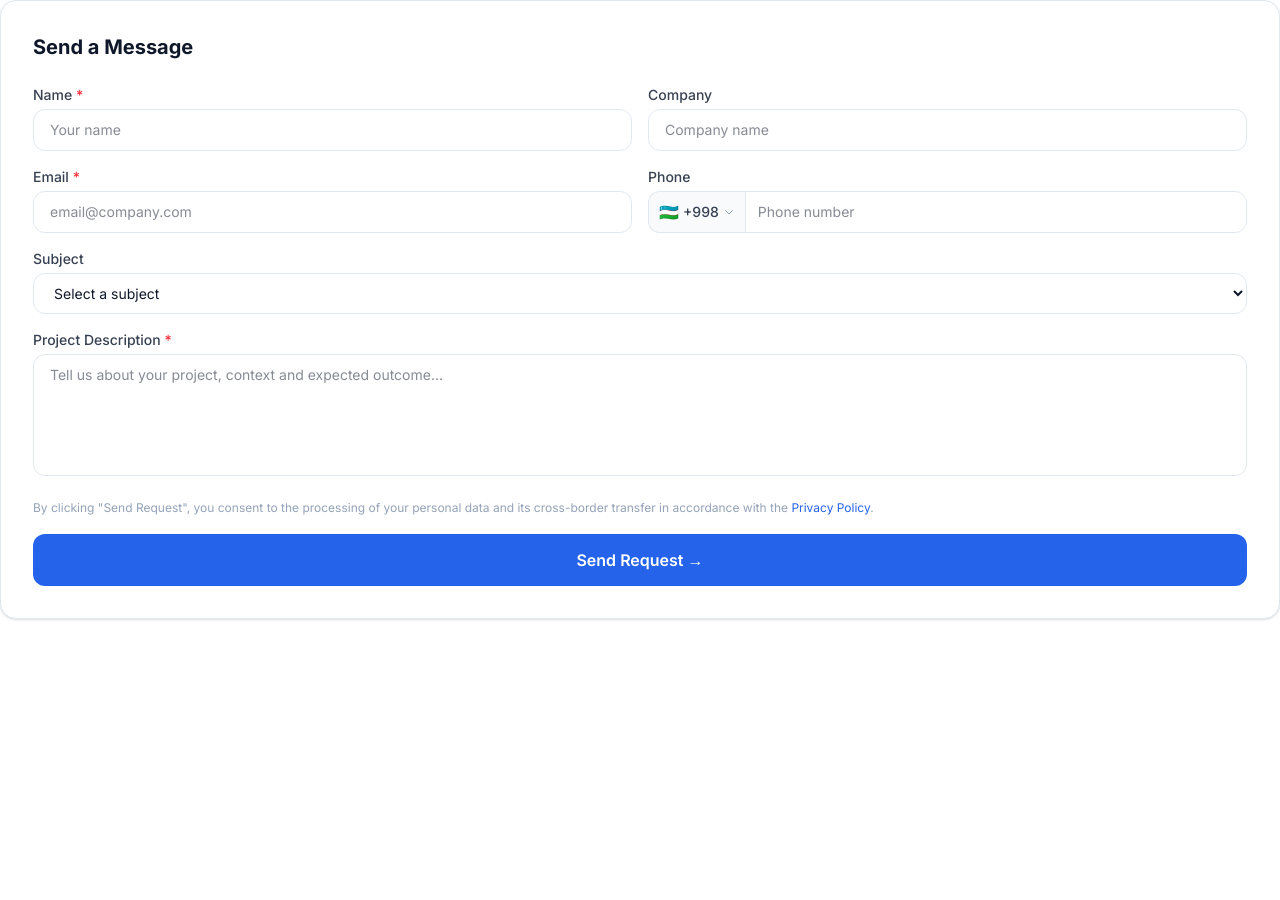
ContactForm — English › validates with English messages
The image size is (1280, 900).
Click the submit button at (640, 560), box [33, 534, 1247, 586]
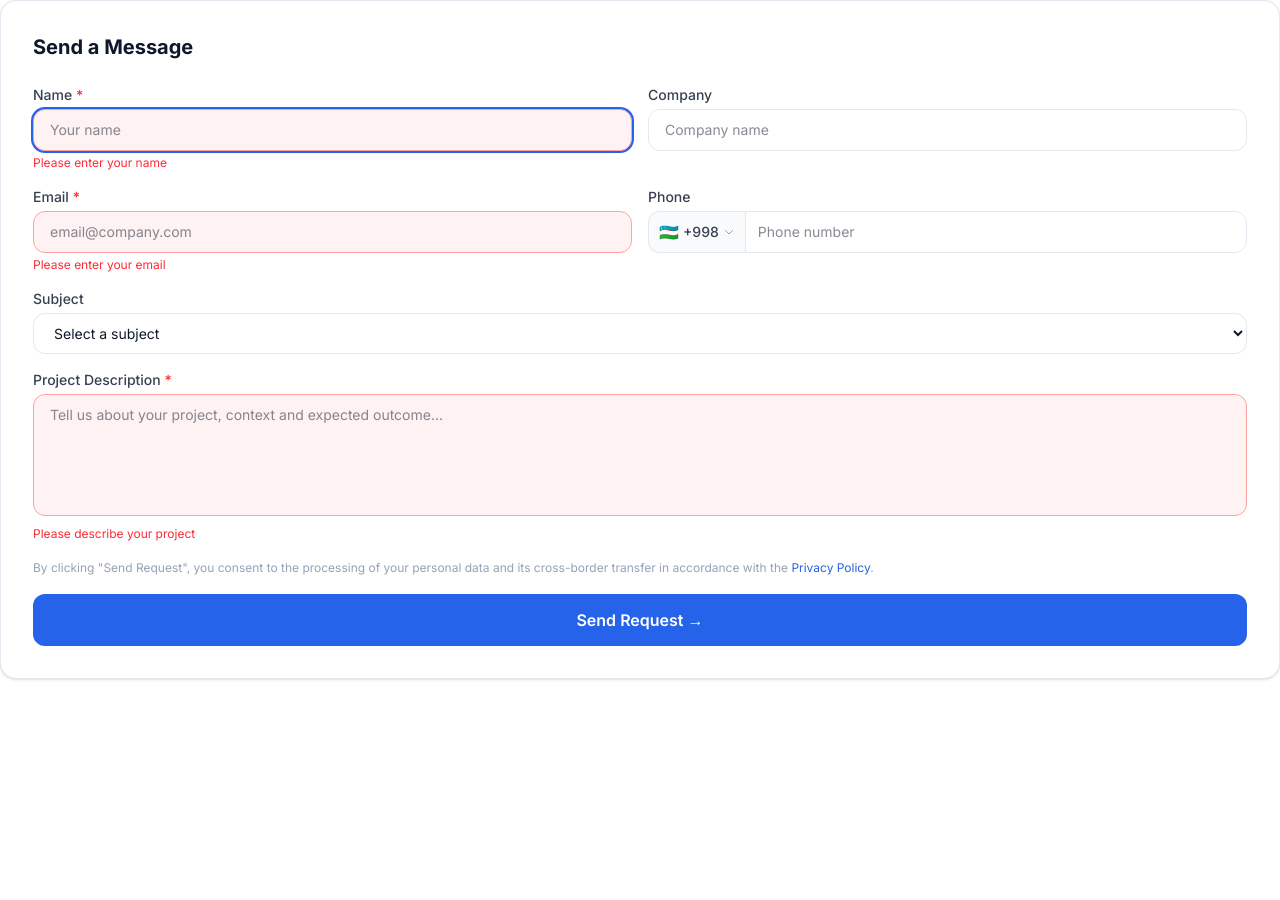
expect the text "Please enter your name" is shown: met, box [33, 155, 167, 170]
expect the text "Please enter your email" is shown: met, box [33, 257, 166, 272]
